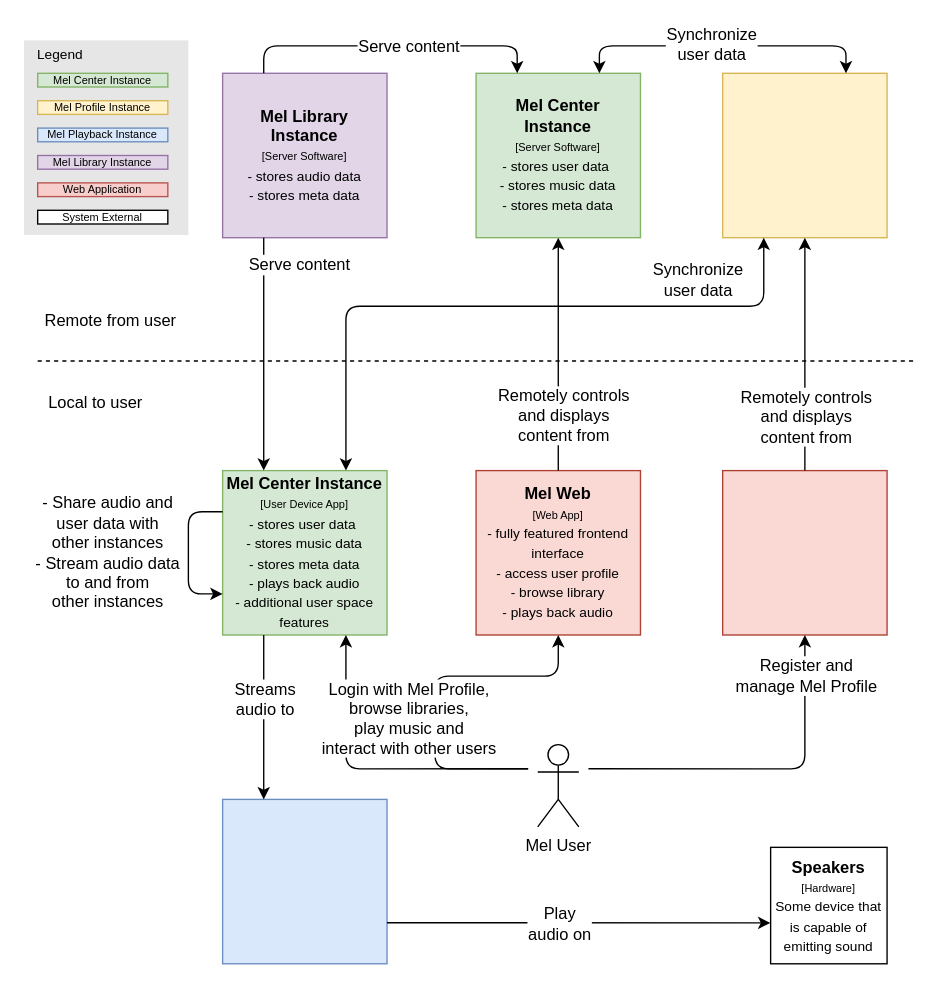
This 940x988 diagram has some shape labels left out. Each missing label, with the centre of its shape:
"Mel Playback Instance [User Device App] - expose interface for audio playback" goes at point (304, 881).
"Mel Profile Frontend [Web App] - access user profile - manage profile" goes at point (804, 552).
"Mel Profile Instance [Server Software] - stores user profile data" goes at point (804, 155).
